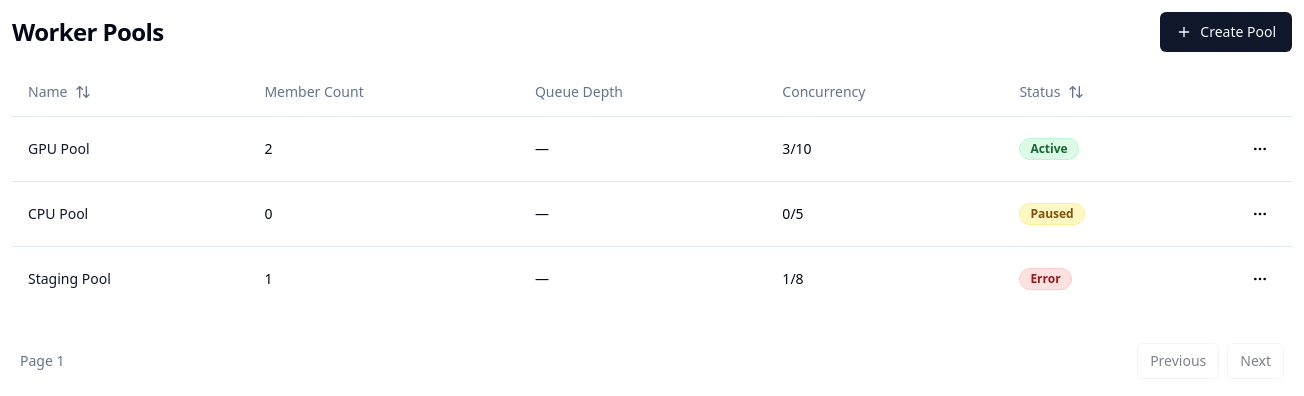
it: WorkerPoolListPage › Actions dropdown › opens a dropdown with View action
This screenshot has width=1304, height=396.
Expected: the link "GPU Pool" is shown, [28,138,90,158]
Click the button named "Open actions for" in the row of "GPU Pool".
click(1260, 148)  # box [1244,132,1276,164]
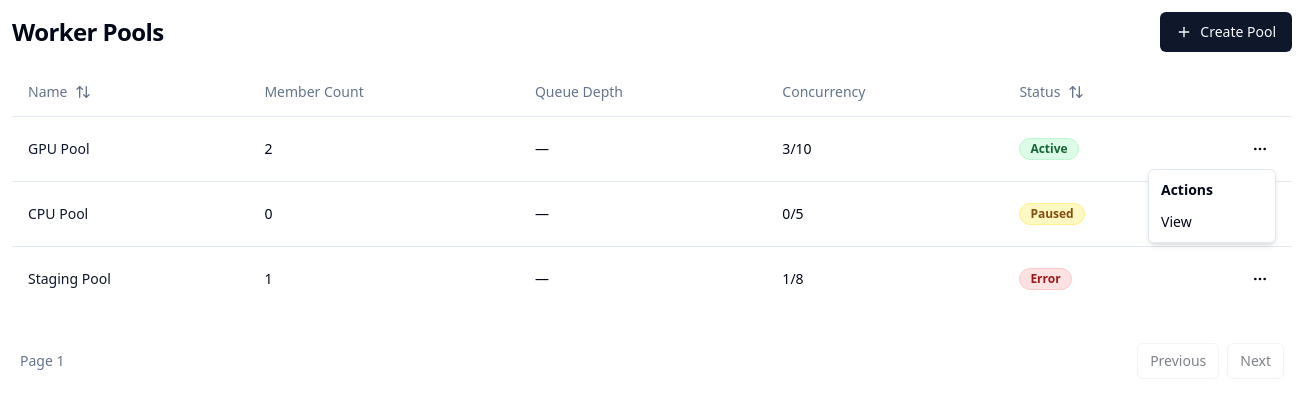
Result: the menu item "View" is shown at [1161,212,1192,231]
